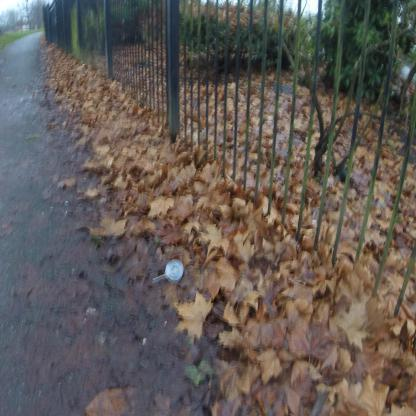plastik: (154, 260, 185, 284)
